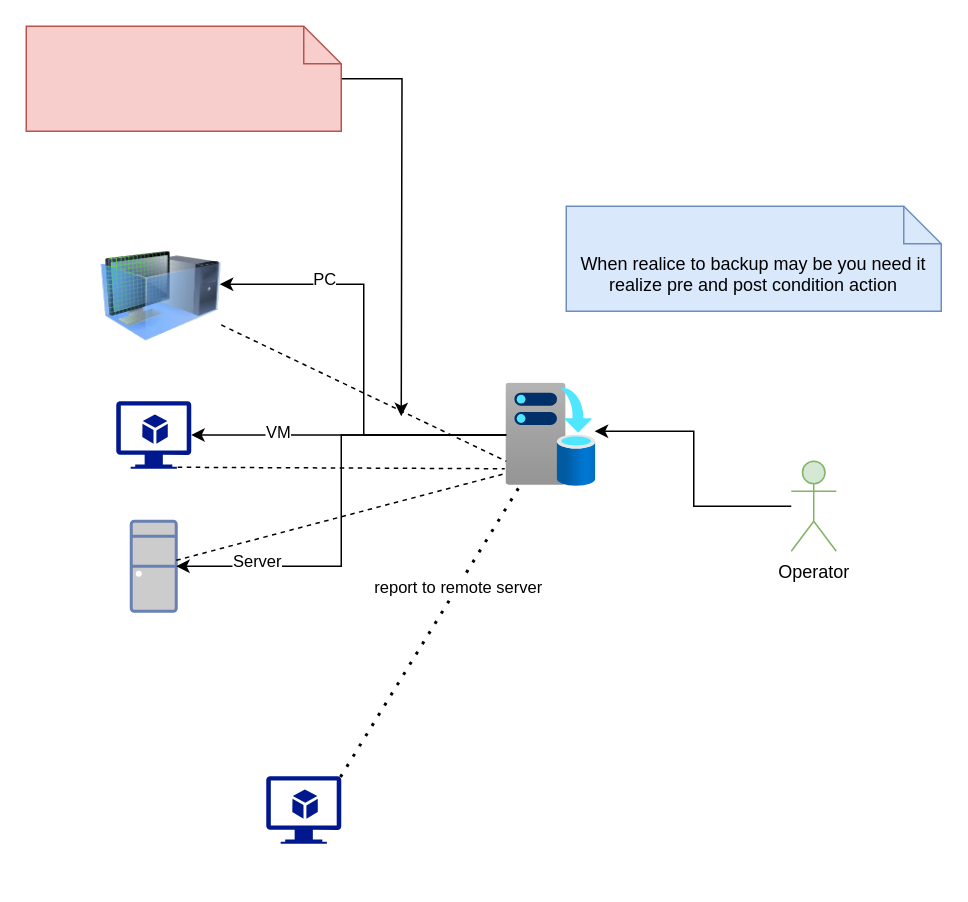
Image size: 968x902. Some labels were removed from this diagram. The shapes that lost their labels are listed below. From the top down, each one's centre as x and y in pixels, then its label:
At point (183, 78): "Action pre or post backup generate generate a report".
At point (303, 809): "remote server".
